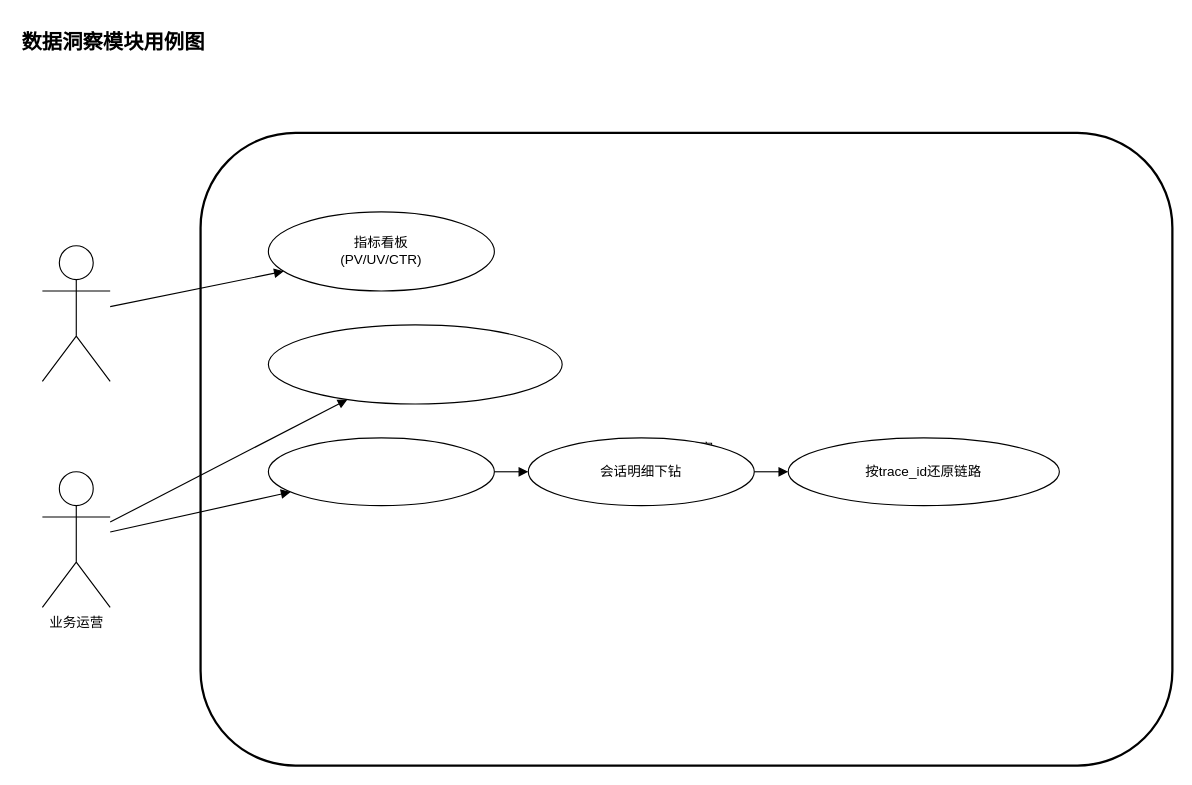
This 1192x785 diagram has some shape labels left out. Here are the shapes that lost their labels. From the top down, the centre of each, then its label:
At pixel 75 313: "业务负责人".
At pixel 414 364: "内容指标分析 (召回/生成/转人工)".
At pixel 380 471: "会话聚类分析".
